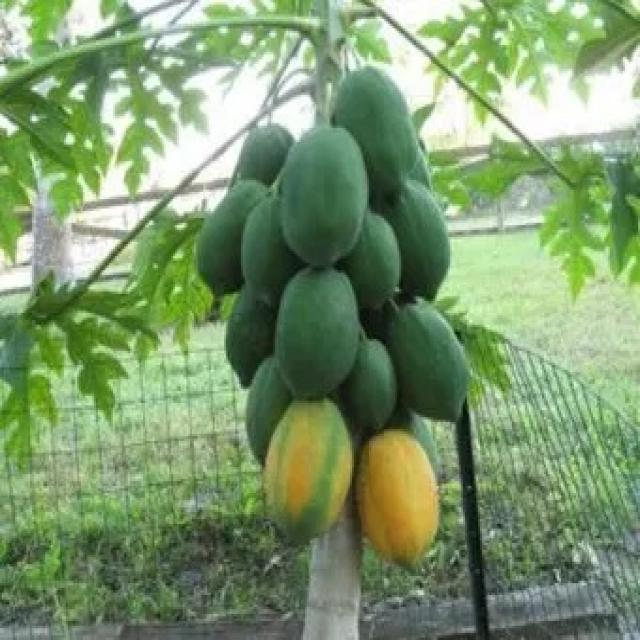Pepaya rippen: (260, 401, 354, 552), (358, 436, 448, 581)
Pepaya unrippen: (273, 121, 365, 258), (271, 263, 358, 394), (339, 74, 425, 194), (386, 298, 472, 412), (192, 185, 260, 291)
